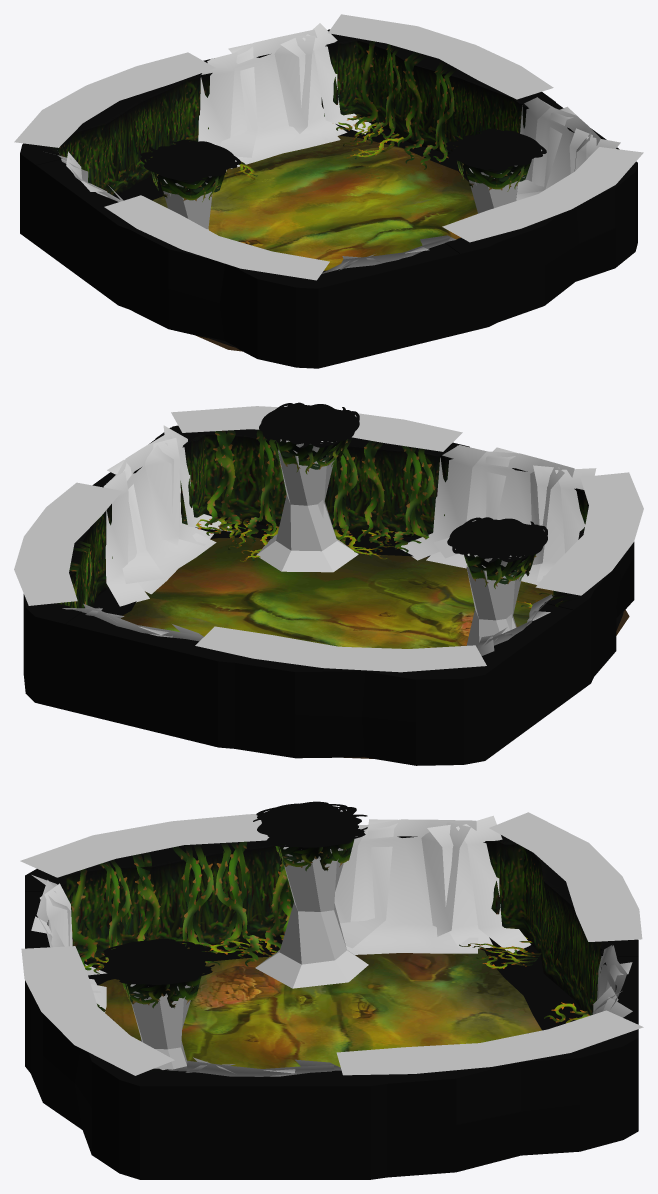
File: Dungeon_021_Room_001.fbx
3 views of the same model, one above another, from view 1: azimuth 30°, elevation 25°; view 2: azimuth 150°, elevation 25°; view 3: azimuth 270°, elevation 25° (orthographic). The views are drawn at different scales.
Visible parts, largest first — view 1: Dun_021_Room_001_Wall, Dun_021_Room_001_Ground, Dun_021_Room_001_Object_03, un_021_Door_002_Object1 (×4), un_021_Door_002 (×3), Dungeon_021_Object_010 (×2), Dun_021_Room_001_Object_02, Dungeon_021_Object_011 (×2), Dun_021_Room_001_shadow, Dun_021_Room_001_Object_01; view 2: Dun_021_Room_001_Wall, un_021_Door_002_Object1 (×4), Dun_021_Room_001_Ground, Dun_021_Room_001_Object_03, un_021_Door_002 (×4), Dungeon_021_Object_010 (×2), Dungeon_021_Object_011 (×2), Dun_021_Room_001_Object_02, Dun_021_Room_001_shadow, Dun_021_Room_001_Object_01; view 3: Dun_021_Room_001_Wall, Dun_021_Room_001_Ground, Dun_021_Room_001_Object_03, un_021_Door_002_Object1 (×4), un_021_Door_002 (×4), Dungeon_021_Object_010 (×2), Dungeon_021_Object_011 (×2), Dun_021_Room_001_Object_02, Dun_021_Room_001_shadow, Dun_021_Room_001_Object_01.
Boxes of the visible parts, box(x1,y1,x2,y2) form: Dun_021_Room_001_Wall: box(20, 37, 637, 368); Dun_021_Room_001_Ground: box(152, 135, 477, 351); Dun_021_Room_001_Object_03: box(14, 14, 643, 280); un_021_Door_002_Object1 (×4): box(57, 23, 620, 273); un_021_Door_002 (×3): box(22, 29, 484, 361); Dungeon_021_Object_010 (×2): box(140, 128, 546, 201); Dun_021_Room_001_Object_02: box(355, 40, 457, 169); Dungeon_021_Object_011 (×2): box(163, 165, 518, 230); Dun_021_Room_001_shadow: box(116, 123, 468, 348); Dun_021_Room_001_Object_01: box(224, 114, 403, 180); Dun_021_Room_001_Wall: box(23, 425, 634, 765); un_021_Door_002_Object1 (×4): box(62, 425, 596, 655); Dun_021_Room_001_Ground: box(121, 537, 629, 758); Dun_021_Room_001_Object_03: box(14, 406, 643, 672); un_021_Door_002 (×4): box(40, 427, 588, 747); Dungeon_021_Object_010 (×2): box(259, 402, 547, 588); Dungeon_021_Object_011 (×2): box(256, 439, 524, 648); Dun_021_Room_001_Object_02: box(64, 429, 584, 608); Dun_021_Room_001_shadow: box(93, 520, 623, 756); Dun_021_Room_001_Object_01: box(196, 514, 549, 607); Dun_021_Room_001_Wall: box(25, 840, 638, 1179); Dun_021_Room_001_Ground: box(99, 948, 541, 1068); Dun_021_Room_001_Object_03: box(20, 812, 643, 1075); un_021_Door_002_Object1 (×4): box(31, 815, 632, 1076); un_021_Door_002 (×4): box(25, 835, 638, 1179); Dungeon_021_Object_010 (×2): box(100, 801, 367, 1008); Dungeon_021_Object_011 (×2): box(129, 847, 368, 1069); Dun_021_Room_001_Object_02: box(71, 841, 291, 1020); Dun_021_Room_001_shadow: box(86, 937, 582, 1030); Dun_021_Room_001_Object_01: box(84, 935, 589, 1033).
Size of what is drawn, in the model's own units: 12.21 by 3.03 by 12.32.
